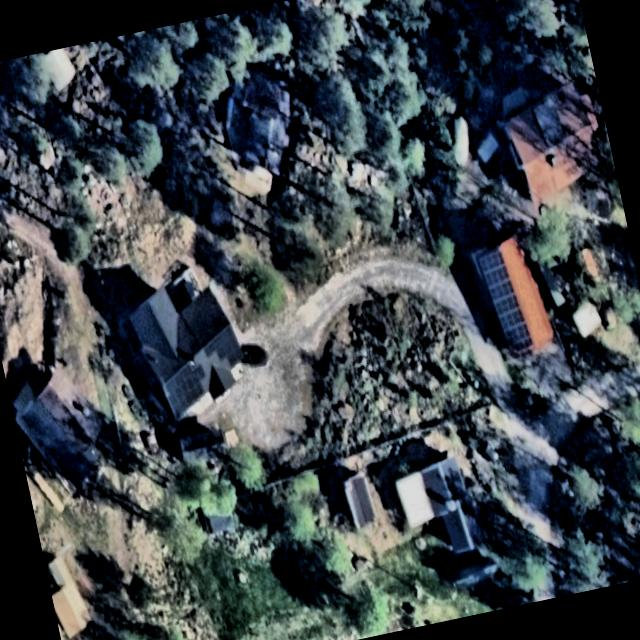roof_pv: (476, 246, 532, 360), (160, 356, 210, 421), (197, 326, 248, 374)
